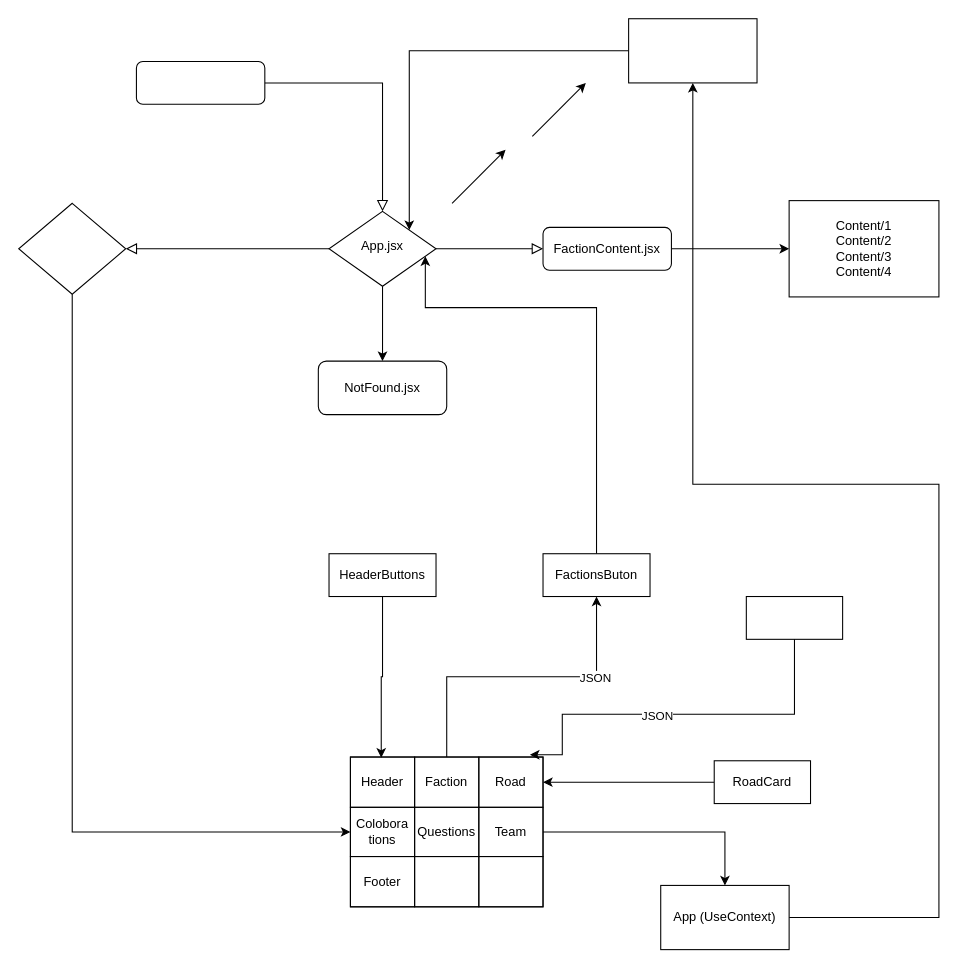
Image size: 966x968. Some labels were removed from this diagram. The box of each missing label's shape, as (x1, y1, x2, y2) in pixels:
Index.js: (135, 60, 265, 104)
Layout.jsx: (18, 202, 126, 294)
MockApi: (628, 18, 757, 83)
RoadButtons: (745, 595, 843, 639)
